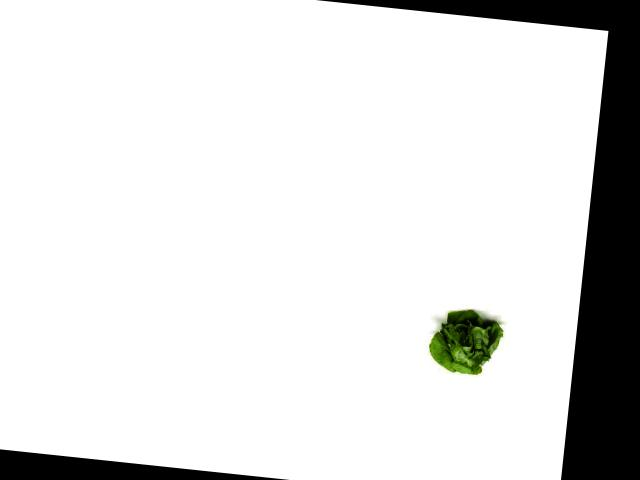lettuce: (425, 302, 507, 383)
